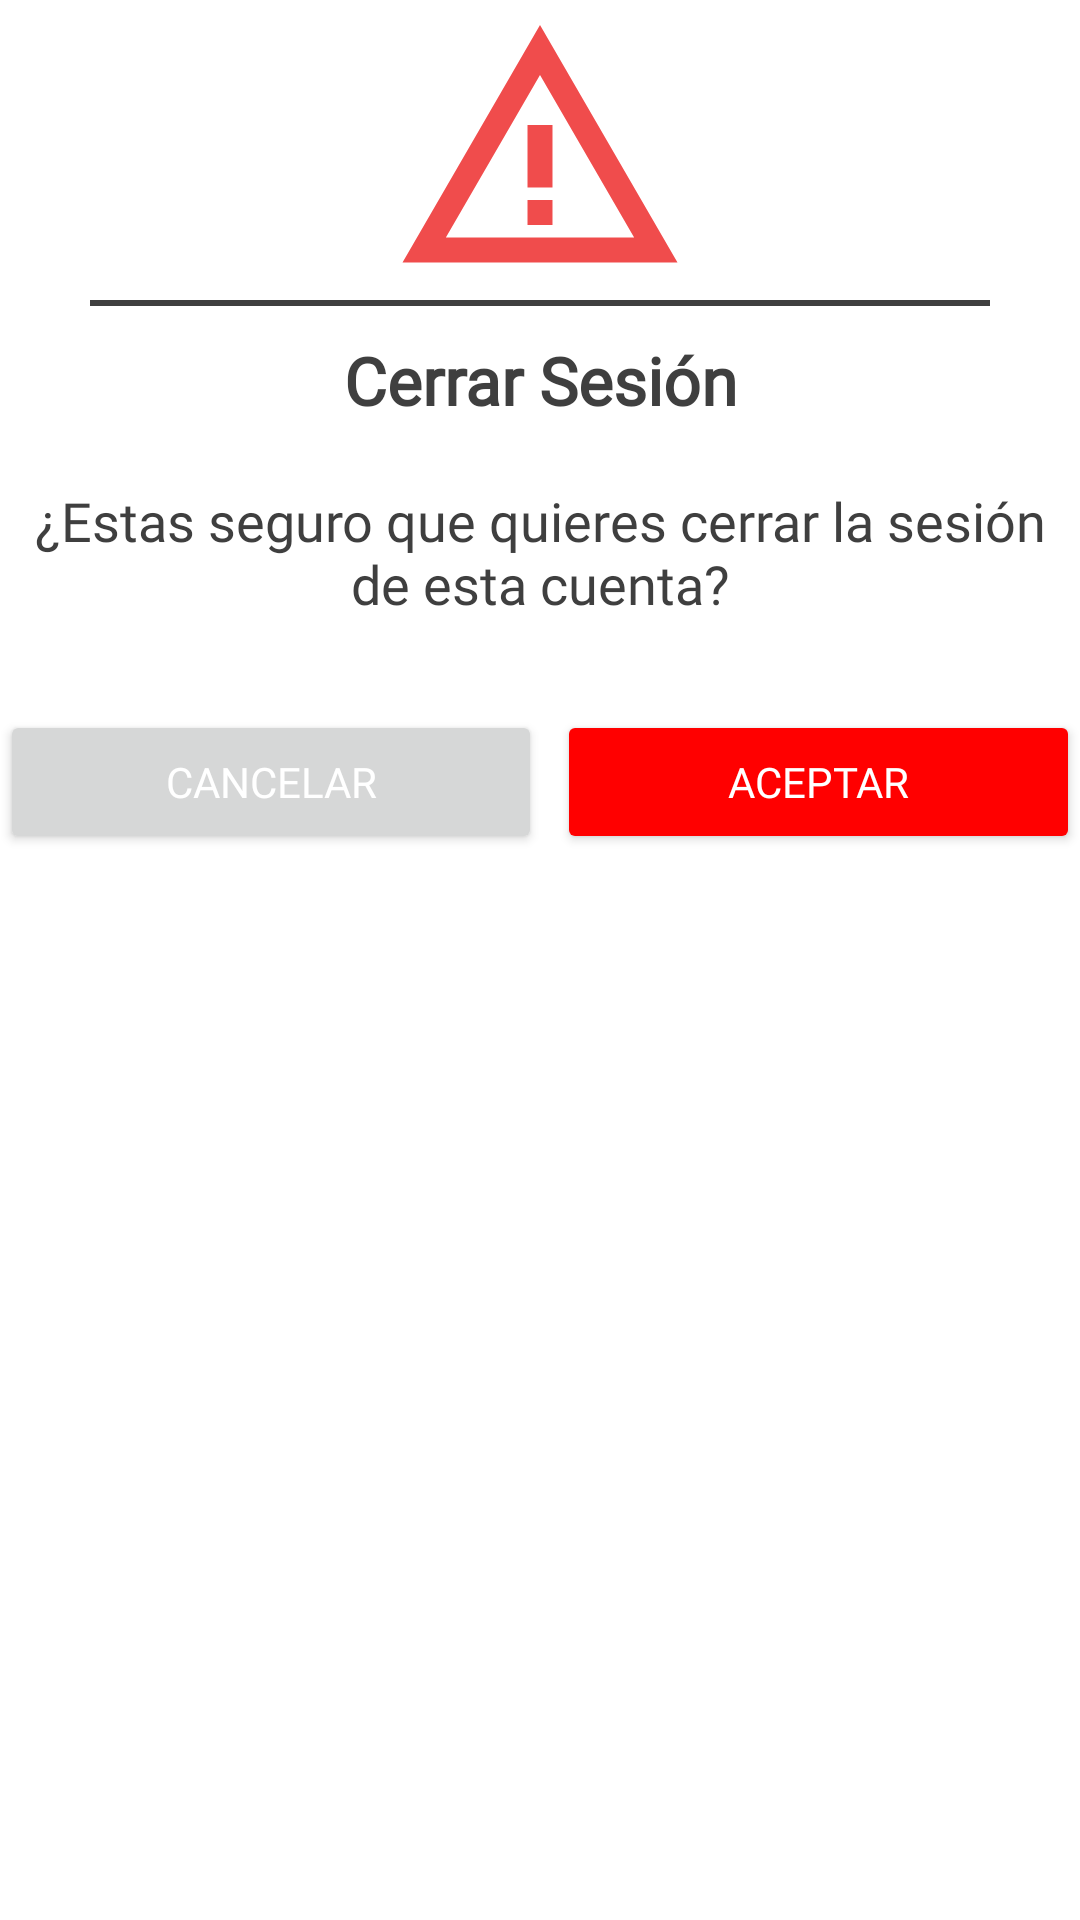

Named icons in this screenshot (1080px x 1920px) and their centers, [x,y]:
warning: [540,144]
